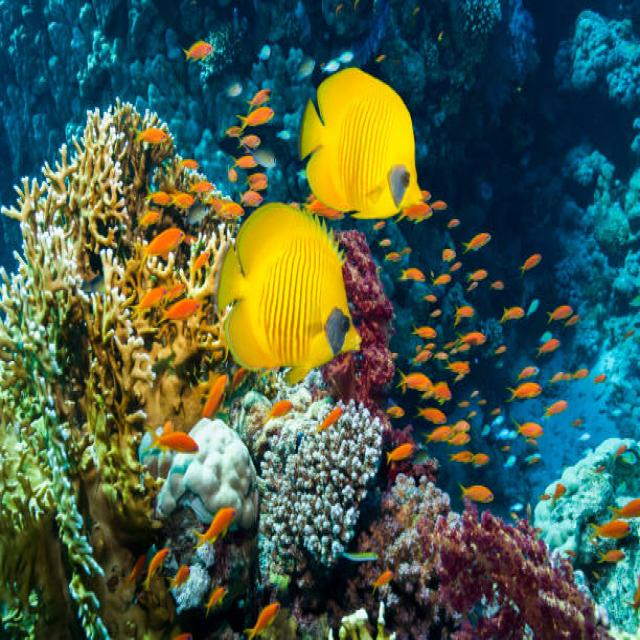ButterflyFish: (221, 202, 363, 385), (299, 69, 428, 219)
